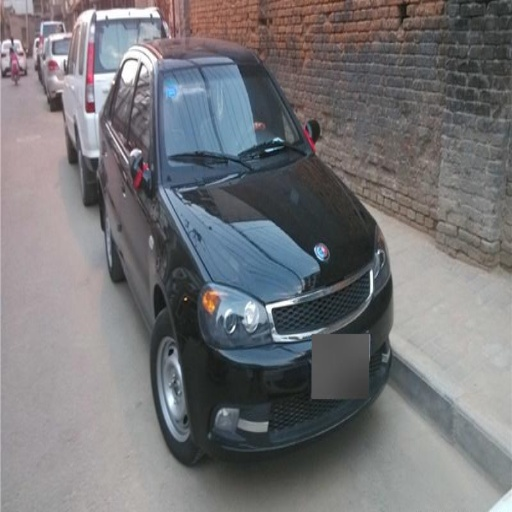front_bumper: (183, 270, 389, 451)
front_right_door: (119, 85, 154, 283)
front_right_light: (200, 283, 269, 346)
hood: (165, 152, 379, 303)
